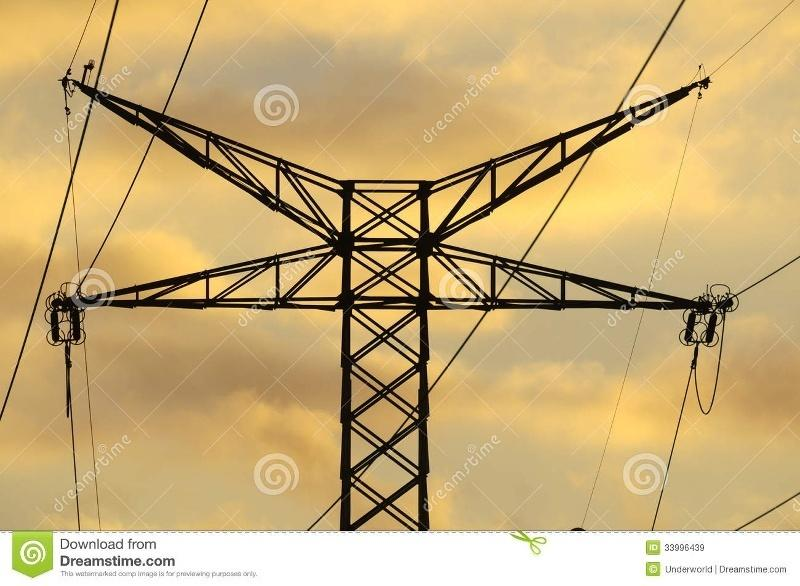power_tower: (48, 46, 720, 528)
